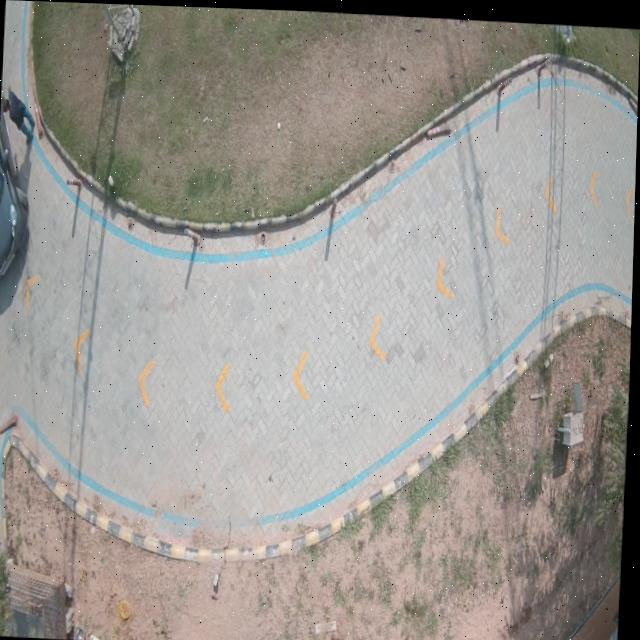car: (0, 89, 26, 282)
